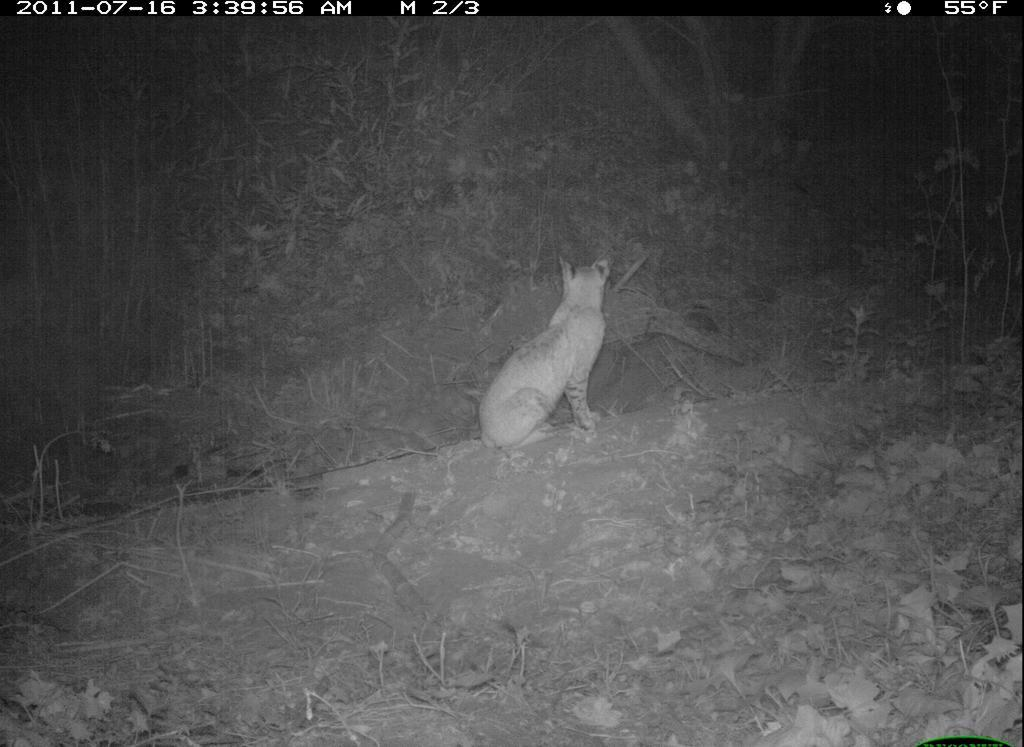bobcat: (461, 239, 641, 457)
